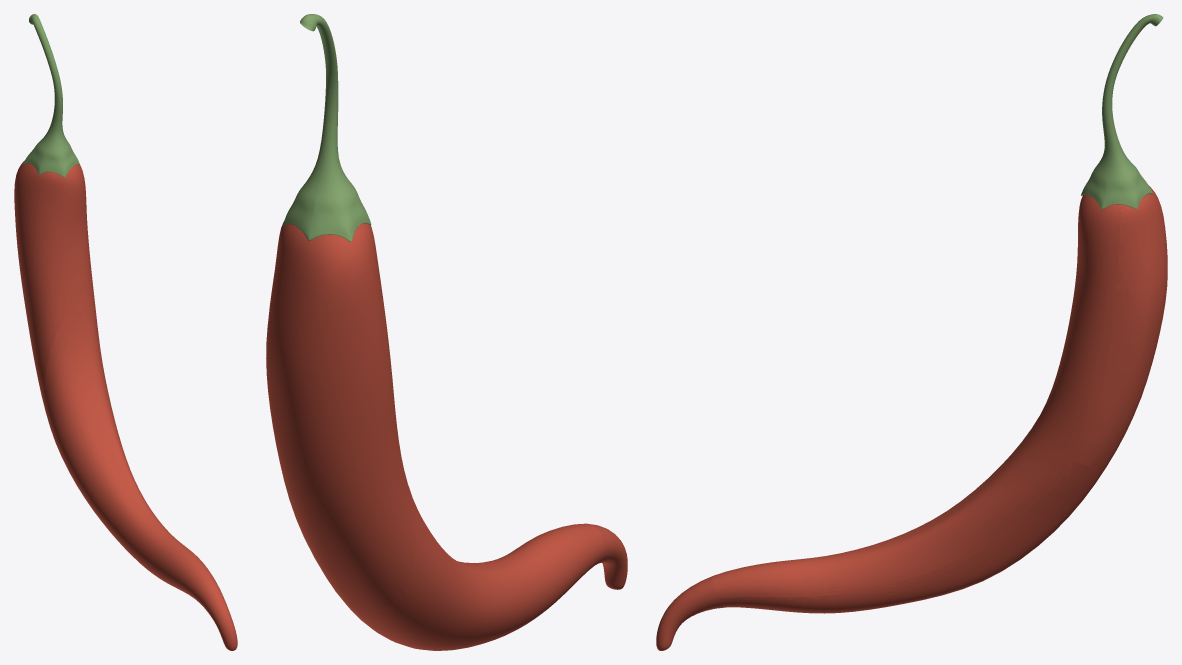
The model's file is Chilli.fbx.
The picture shows the model from 3 angles, left to right: view 1: azimuth 30°, elevation 25°; view 2: azimuth 150°, elevation 25°; view 3: azimuth 270°, elevation 25°; orthographic projection. The views are drawn at different scales.
Parts seen in each view (by area): view 1: Chilli; view 2: Chilli; view 3: Chilli.
Part boxes in pixels (box(x1,y1,x2,y2)): Chilli: box(14, 14, 237, 650); Chilli: box(266, 14, 627, 650); Chilli: box(656, 14, 1167, 650).
Bounding box in the file's own units: 985 × 7279 × 5332.
